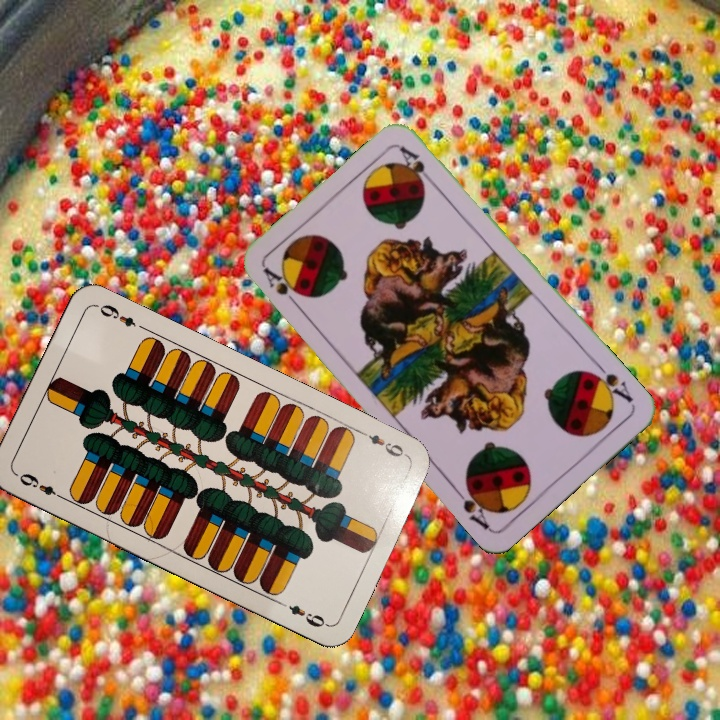E9: (12, 469, 68, 503), (364, 430, 410, 460)
SA: (584, 358, 636, 405), (259, 264, 306, 312)
